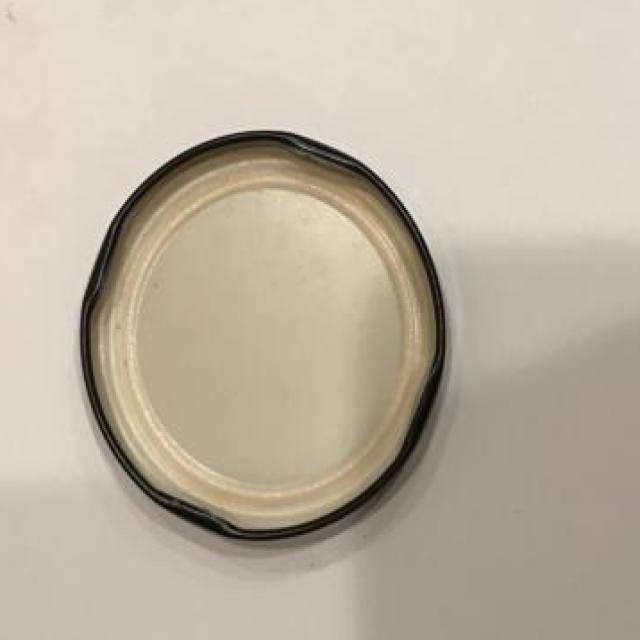organic: (67, 116, 473, 574)
